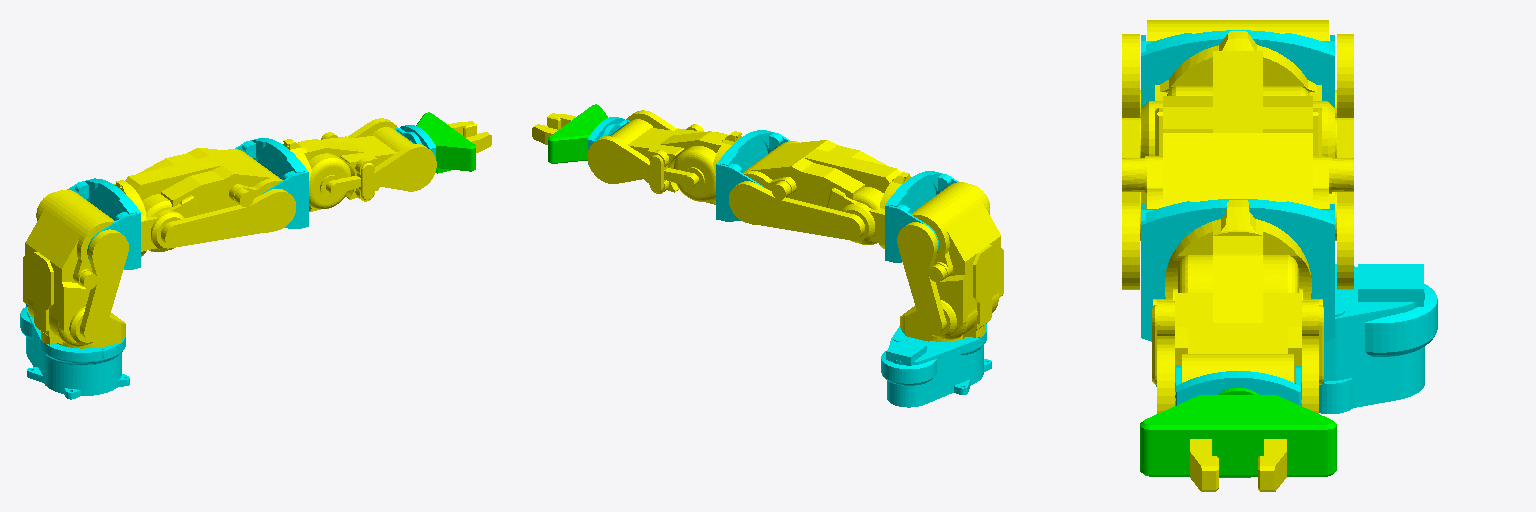
The robot description file, URDF, robot "yellowarm":
<?xml version="1.0" ?>
<!-- =================================================================================== -->
<!-- |    This document was autogenerated by xacro from panda_arm.urdf.xacro           | -->
<!-- |    EDITING THIS FILE BY HAND IS NOT RECOMMENDED                                 | -->
<!-- =================================================================================== -->
<robot name="yellowarm" xmlns:xacro="http://www.ros.org/wiki/xacro">
  <link name="yellowarm_link0">
    <visual>
      <geometry>
        <mesh filename="package://yellowarm_description/meshes/visual/body1.stl"/>
      </geometry>
      <origin rpy="1.57079 0 0" xyz="0 0 0.066"/>
      <material name = "gray0">
        <color rgba = "0 1 1 1"/>
      </material>
    </visual>
    <collision>
      <geometry>
        <mesh filename="package://yellowarm_description/meshes/collision/body1.stl"/>
      </geometry>
      <origin rpy="1.57079 0 0" xyz="0 0 0.066"/>
    </collision>
    <inertial>
      <origin rpy="0 0 0" xyz="0.074 0.137 -0.042"/>
      <mass value="2.678"/>
      <inertia ixx="0.011" ixy="0.00057" ixz="-0.0031" iyy="0.026" iyz="0.000023" izz="0.030"/>
    </inertial>
  </link>
  <link name="yellowarm_link1">
    <visual>
      <geometry>
        <mesh filename="package://yellowarm_description/meshes/visual/body2.stl"/>
      </geometry>
      <origin rpy="0 0 0" xyz="0 0 -0.008"/>
      <material name = "gray1">
        <color rgba = "1 1 0 1"/>
      </material>
    </visual>
    <collision>
      <geometry>
        <mesh filename="package://yellowarm_description/meshes/collision/body2.stl"/>
      </geometry>
      <origin rpy="0 0 0" xyz="0 0 -0.008"/>
    </collision>
    <inertial>
      <origin rpy="0 0 0" xyz="-0.00046 -0.0050 0.037"/>
      <mass value="1.883"/>
      <inertia ixx="0.010" ixy="0.0000072" ixz="-0.000043" iyy="0.012" iyz="-0.00054" izz="0.013"/>
    </inertial>
  </link>
  <joint name="yellowarm_joint1" type="revolute">
    <origin rpy="0 0 -1.57079" xyz="0 0 0.078"/>
    <parent link="yellowarm_link0"/>
    <child link="yellowarm_link1"/>
    <axis xyz="0 0 1"/>
    <limit effort="22.8" lower="-4.57276" upper="1.43118" velocity="1.57079"/>
  </joint>
  <link name="yellowarm_link2">
    <visual>
      <geometry>
        <mesh filename="package://yellowarm_description/meshes/visual/body3.stl"/>
      </geometry>
      <origin rpy="0 0 0" xyz="0 0 -0.265"/>
      <material name = "gray2">
        <color rgba = "0 1 1 1"/>
      </material>
    </visual>
    <collision>
      <geometry>
        <mesh filename="package://yellowarm_description/meshes/collision/body3.stl"/>
      </geometry>
      <origin rpy="0 0 0" xyz="0 0 -0.265"/>
    </collision>
    <inertial>
      <origin rpy="0 0 0" xyz="-0.00046 -0.0050 0.037"/>
      <mass value="1.883"/>
      <inertia ixx="0.010" ixy="0.0000072" ixz="-0.000043" iyy="0.012" iyz="-0.00054" izz="0.013"/>
    </inertial>
  </link>
  <joint name="yellowarm_joint2" type="revolute">
    <origin rpy="-1.57079 0 0" xyz="0 0 0.192"/>
    <parent link="yellowarm_link1"/>
    <child link="yellowarm_link2"/>
    <axis xyz="1 0 0"/>
    <limit effort="29.6" lower="-0.61087" upper="2.530721" velocity="1.57079"/>
  </joint>
  <link name="yellowarm_link3">
    <visual>
      <geometry>
        <mesh filename="package://yellowarm_description/meshes/visual/body4.stl"/>
      </geometry>
      <origin rpy="0 0 0" xyz="0 0 -0.008"/>
      <material name = "gray3">
        <color rgba = "1 1 0 1"/>
      </material>
    </visual>
    <collision>
      <geometry>
        <mesh filename="package://yellowarm_description/meshes/collision/body4.stl"/>
      </geometry>
      <origin rpy="0 0 0" xyz="0 0 -0.008"/>
    </collision>
    <inertial>
      <origin rpy="0 0 0" xyz="-0.00046 -0.0050 0.037"/>
      <mass value="1.883"/>
      <inertia ixx="0.010" ixy="0.0000072" ixz="-0.000043" iyy="0.012" iyz="-0.00054" izz="0.013"/>
    </inertial>
  </link>
  <joint name="yellowarm_joint3" type="revolute">
    <origin rpy="0 0 0" xyz="0 0 0.063"/>
    <parent link="yellowarm_link2"/>
    <child link="yellowarm_link3"/>
    <axis xyz="0 0 1"/>
    <limit effort="29.6" lower="-3.00197" upper="3.00197" velocity="1.57079"/>
  </joint>
  <link name="yellowarm_link4">
    <visual>
      <geometry>
        <mesh filename="package://yellowarm_description/meshes/visual/body5.stl"/>
      </geometry>
      <origin rpy="0 0 0" xyz="0 0 -0.265"/>
      <material name = "gray4">
        <color rgba = "0 1 1 1"/>
      </material>
    </visual>
    <collision>
      <geometry>
        <mesh filename="package://yellowarm_description/meshes/collision/body5.stl"/>
      </geometry>
      <origin rpy="0 0 0" xyz="0 0 -0.265"/>
    </collision>
    <inertial>
      <origin rpy="0 0 0" xyz="-0.00046 -0.0050 0.037"/>
      <mass value="1.883"/>
      <inertia ixx="0.010" ixy="0.0000072" ixz="-0.000043" iyy="0.012" iyz="-0.00054" izz="0.013"/>
    </inertial>
  </link>
  <joint name="yellowarm_joint4" type="revolute">
    <origin rpy="0 0 0" xyz="0 0 0.257"/>
    <parent link="yellowarm_link3"/>
    <child link="yellowarm_link4"/>
    <axis xyz="1 0 0"/>
    <limit effort="29.6" lower="-2.35619" upper="1.22173" velocity="1.57079"/>
  </joint>
  <link name="yellowarm_link5">
    <visual>
      <geometry>
        <mesh filename="package://yellowarm_description/meshes/visual/body6.stl"/>
      </geometry>
      <origin rpy="0 0 0" xyz="0 0 -0.008"/>
      <material name = "gray5">
        <color rgba = "1 1 0 1"/>
      </material>
    </visual>
    <collision>
      <geometry>
        <mesh filename="package://yellowarm_description/meshes/collision/body6.stl"/>
      </geometry>
      <origin rpy="0 0 0" xyz="0 0 -0.008"/>
    </collision>
    <inertial>
      <origin rpy="0 0 0" xyz="-0.00046 -0.0050 0.037"/>
      <mass value="1.883"/>
      <inertia ixx="0.010" ixy="0.0000072" ixz="-0.000043" iyy="0.012" iyz="-0.00054" izz="0.013"/>
    </inertial>
  </link>
  <joint name="yellowarm_joint5" type="revolute">
    <origin rpy="0 0 0" xyz="0 0 0.063"/>
    <parent link="yellowarm_link4"/>
    <child link="yellowarm_link5"/>
    <axis xyz="0 0 1"/>
    <limit effort="29.6" lower="-3.00197" upper="3.00197" velocity="1.57079"/>
  </joint>
  <link name="yellowarm_link6">
    <visual>
      <geometry>
        <mesh filename="package://yellowarm_description/meshes/visual/body7.stl"/>
      </geometry>
      <origin rpy="0 0 0" xyz="0 0 -0.225"/>
      <material name = "gray6">
        <color rgba = "0 1 1 1"/>
      </material>
    </visual>
    <collision>
      <geometry>
        <mesh filename="package://yellowarm_description/meshes/collision/body7.stl"/>
      </geometry>
      <origin rpy="0 0 0" xyz="0 0 -0.225"/>
    </collision>
    <inertial>
      <origin rpy="0 0 0" xyz="-0.00046 -0.0050 0.037"/>
      <mass value="1.883"/>
      <inertia ixx="0.010" ixy="0.0000072" ixz="-0.000043" iyy="0.012" iyz="-0.00054" izz="0.013"/>
    </inertial>
  </link>
  <joint name="yellowarm_joint6" type="revolute">
    <origin rpy="0 0 0" xyz="0 0 0.217"/>
    <parent link="yellowarm_link5"/>
    <child link="yellowarm_link6"/>
    <axis xyz="1 0 0"/>
    <limit effort="29.6" lower="-1.5708" upper="1.5708" velocity="1.57079"/>
  </joint>
  <link name="yellowarm_link7">
    <visual>
      <geometry>
        <mesh filename="package://yellowarm_description/meshes/visual/body8.stl"/>
      </geometry>
      <origin rpy="0 0 0" xyz="-0.00975 0 0.051"/>
      <material name = "gray7">
        <color rgba = "0 1 0 1"/>
      </material>
    </visual>
    <collision>
      <geometry>
        <mesh filename="package://yellowarm_description/meshes/collision/body8.stl"/>
      </geometry>
      <origin rpy="0 0 0" xyz="-0.00975 0 0.051"/>
    </collision>
    <inertial>
      <origin rpy="0 0 0" xyz="-0.00046 -0.0050 0.037"/>
      <mass value="1.883"/>
      <inertia ixx="0.010" ixy="0.0000072" ixz="-0.000043" iyy="0.012" iyz="-0.00054" izz="0.013"/>
    </inertial>
  </link>
  <joint name="yellowarm_joint7" type="revolute">
    <origin rpy="0 0 -1.57079" xyz="0 0 0.048"/>
    <parent link="yellowarm_link6"/>
    <child link="yellowarm_link7"/>
    <axis xyz="0 0 1"/>
    <limit effort="29.6" lower="-3.49066" upper="2.40855" velocity="1.57079"/>
  </joint>
  <link name="yellowarm_link8">
    <visual>
      <geometry>
        <mesh filename="package://yellowarm_description/meshes/visual/body9.stl"/>
      </geometry>
      <origin rpy="0 0 0" xyz="-0.00975 0 0.051"/>
      <material name = "gray8">
        <color rgba = "1 1 0 1"/>
      </material>
    </visual>
    <collision>
      <geometry>
        <mesh filename="package://yellowarm_description/meshes/collision/body9.stl"/>
      </geometry>
      <origin rpy="0 0 0" xyz="-0.00975 0 0.051"/>
    </collision>
    <inertial>
      <origin rpy="0 0 0" xyz="-0.00046 -0.0050 0.037"/>
      <mass value="1.883"/>
      <inertia ixx="0.010" ixy="0.0000072" ixz="-0.000043" iyy="0.012" iyz="-0.00054" izz="0.013"/>
    </inertial>
  </link>
  <joint name="yellowarm_joint8" type="prismatic">
    <origin rpy="0 0 0" xyz="0 0 0"/>
    <parent link="yellowarm_link7"/>
    <child link="yellowarm_link8"/>
    <axis xyz="0 1 0"/>
    <limit effort="29.6" lower="-0.022" upper="0.015" velocity="1.57079"/>
  </joint>
  <link name="yellowarm_link9">
    <visual>
      <geometry>
        <mesh filename="package://yellowarm_description/meshes/visual/body10.stl"/>
      </geometry>
      <origin rpy="0 0 0" xyz="-0.00975 0 0.051"/>
      <material name = "gray9">
        <color rgba = "1 1 0 1"/>
      </material>
    </visual>
    <collision>
      <geometry>
        <mesh filename="package://yellowarm_description/meshes/collision/body10.stl"/>
      </geometry>
      <origin rpy="0 0 0" xyz="-0.00975 0 0.051"/>
    </collision>
    <inertial>
      <origin rpy="0 0 0" xyz="-0.00046 -0.0050 0.037"/>
      <mass value="1.883"/>
      <inertia ixx="0.010" ixy="0.0000072" ixz="-0.000043" iyy="0.012" iyz="-0.00054" izz="0.013"/>
    </inertial>
  </link>
  <joint name="yellowarm_joint9" type="prismatic">
    <origin rpy="0 0 0" xyz="0 0 0"/>
    <parent link="yellowarm_link7"/>
    <child link="yellowarm_link9"/>
    <axis xyz="0 -1 0"/>
    <limit effort="29.6" lower="-0.022" upper="0.015" velocity="1.57079"/>
    <mimic joint="yellowarm_joint8" multiplier="1" offset="0" />
  </joint>
</robot>

--- Facts derived from the render (not from the file) ---
Views: 3 orthographic renders of the robot side by side, from view 1: azimuth 30°, elevation 25°; view 2: azimuth 150°, elevation 25°; view 3: azimuth 270°, elevation 25°.
Model yellowarm with 10 links and 9 joints (7 revolute, 2 prismatic), rooted at yellowarm_link0, posed all joints at 0.
Links seen in each view (by area): view 1: yellowarm_link1, yellowarm_link3, yellowarm_link5, yellowarm_link0, yellowarm_link4, yellowarm_link2, yellowarm_link7, yellowarm_link6; view 2: yellowarm_link1, yellowarm_link3, yellowarm_link5, yellowarm_link0, yellowarm_link4, yellowarm_link2, yellowarm_link7, yellowarm_link6; view 3: yellowarm_link3, yellowarm_link5, yellowarm_link0, yellowarm_link7, yellowarm_link4, yellowarm_link1, yellowarm_link2, yellowarm_link6, yellowarm_link8, yellowarm_link9.
Boxes of the visible links, bbox=[...] form: yellowarm_link1: bbox=[23, 190, 128, 348]; yellowarm_link3: bbox=[114, 148, 295, 256]; yellowarm_link5: bbox=[283, 118, 436, 211]; yellowarm_link0: bbox=[20, 304, 129, 399]; yellowarm_link4: bbox=[235, 138, 308, 228]; yellowarm_link2: bbox=[67, 178, 140, 269]; yellowarm_link7: bbox=[416, 112, 475, 173]; yellowarm_link6: bbox=[394, 125, 435, 172]; yellowarm_link1: bbox=[897, 182, 1003, 341]; yellowarm_link3: bbox=[729, 140, 910, 248]; yellowarm_link5: bbox=[587, 110, 741, 204]; yellowarm_link0: bbox=[881, 324, 991, 407]; yellowarm_link4: bbox=[716, 130, 789, 221]; yellowarm_link2: bbox=[885, 171, 958, 262]; yellowarm_link7: bbox=[548, 104, 607, 163]; yellowarm_link6: bbox=[588, 117, 629, 164]; yellowarm_link3: bbox=[1122, 31, 1353, 289]; yellowarm_link5: bbox=[1152, 200, 1323, 413]; yellowarm_link0: bbox=[1156, 264, 1437, 413]; yellowarm_link7: bbox=[1140, 388, 1336, 477]; yellowarm_link4: bbox=[1141, 199, 1334, 341]; yellowarm_link1: bbox=[1122, 20, 1353, 240]; yellowarm_link2: bbox=[1141, 30, 1334, 107]; yellowarm_link6: bbox=[1176, 366, 1300, 405]; yellowarm_link8: bbox=[1258, 439, 1286, 491]; yellowarm_link9: bbox=[1190, 439, 1218, 491].
Size in the robot's own frame: 0.846 by 0.253 by 0.343 metres.
10 mesh visuals loaded from 10 distinct referenced files (10 binary STL).